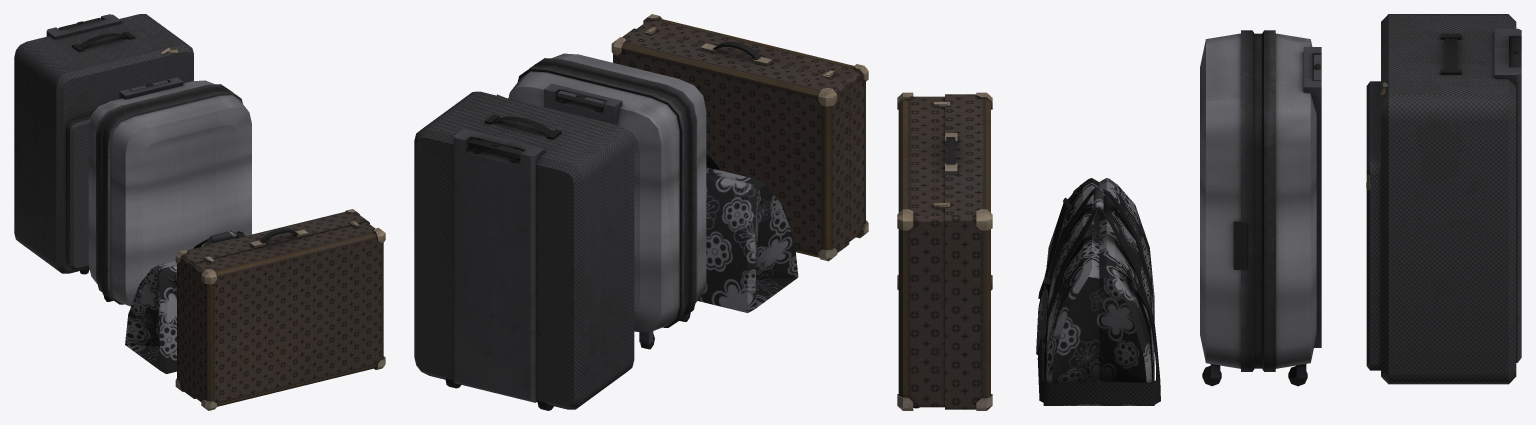
The model's file is edited_luggage.FBX.
3 views of the same model, side by side, from view 1: azimuth 30°, elevation 25°; view 2: azimuth 150°, elevation 25°; view 3: azimuth 270°, elevation 25° (orthographic). The views are drawn at different scales.
Parts seen in each view (by area): view 1: suitcase1, suitcase2, suitcase3, bag; view 2: suitcase3, suitcase1, suitcase2, bag; view 3: suitcase3, suitcase2, suitcase1, bag.
Part boxes in pixels (<box>): suitcase1: <box>175,209,385,410</box>; suitcase2: <box>88,77,251,306</box>; suitcase3: <box>14,14,193,274</box>; bag: <box>125,230,245,373</box>; suitcase3: <box>414,91,634,410</box>; suitcase1: <box>611,14,868,261</box>; suitcase2: <box>508,53,706,332</box>; bag: <box>698,153,798,312</box>; suitcase3: <box>1366,14,1521,384</box>; suitcase2: <box>1200,30,1321,371</box>; suitcase1: <box>897,92,992,410</box>; bag: <box>1036,178,1160,405</box>.
Size of the model in its own units: 74.07 by 83.91 by 155.
